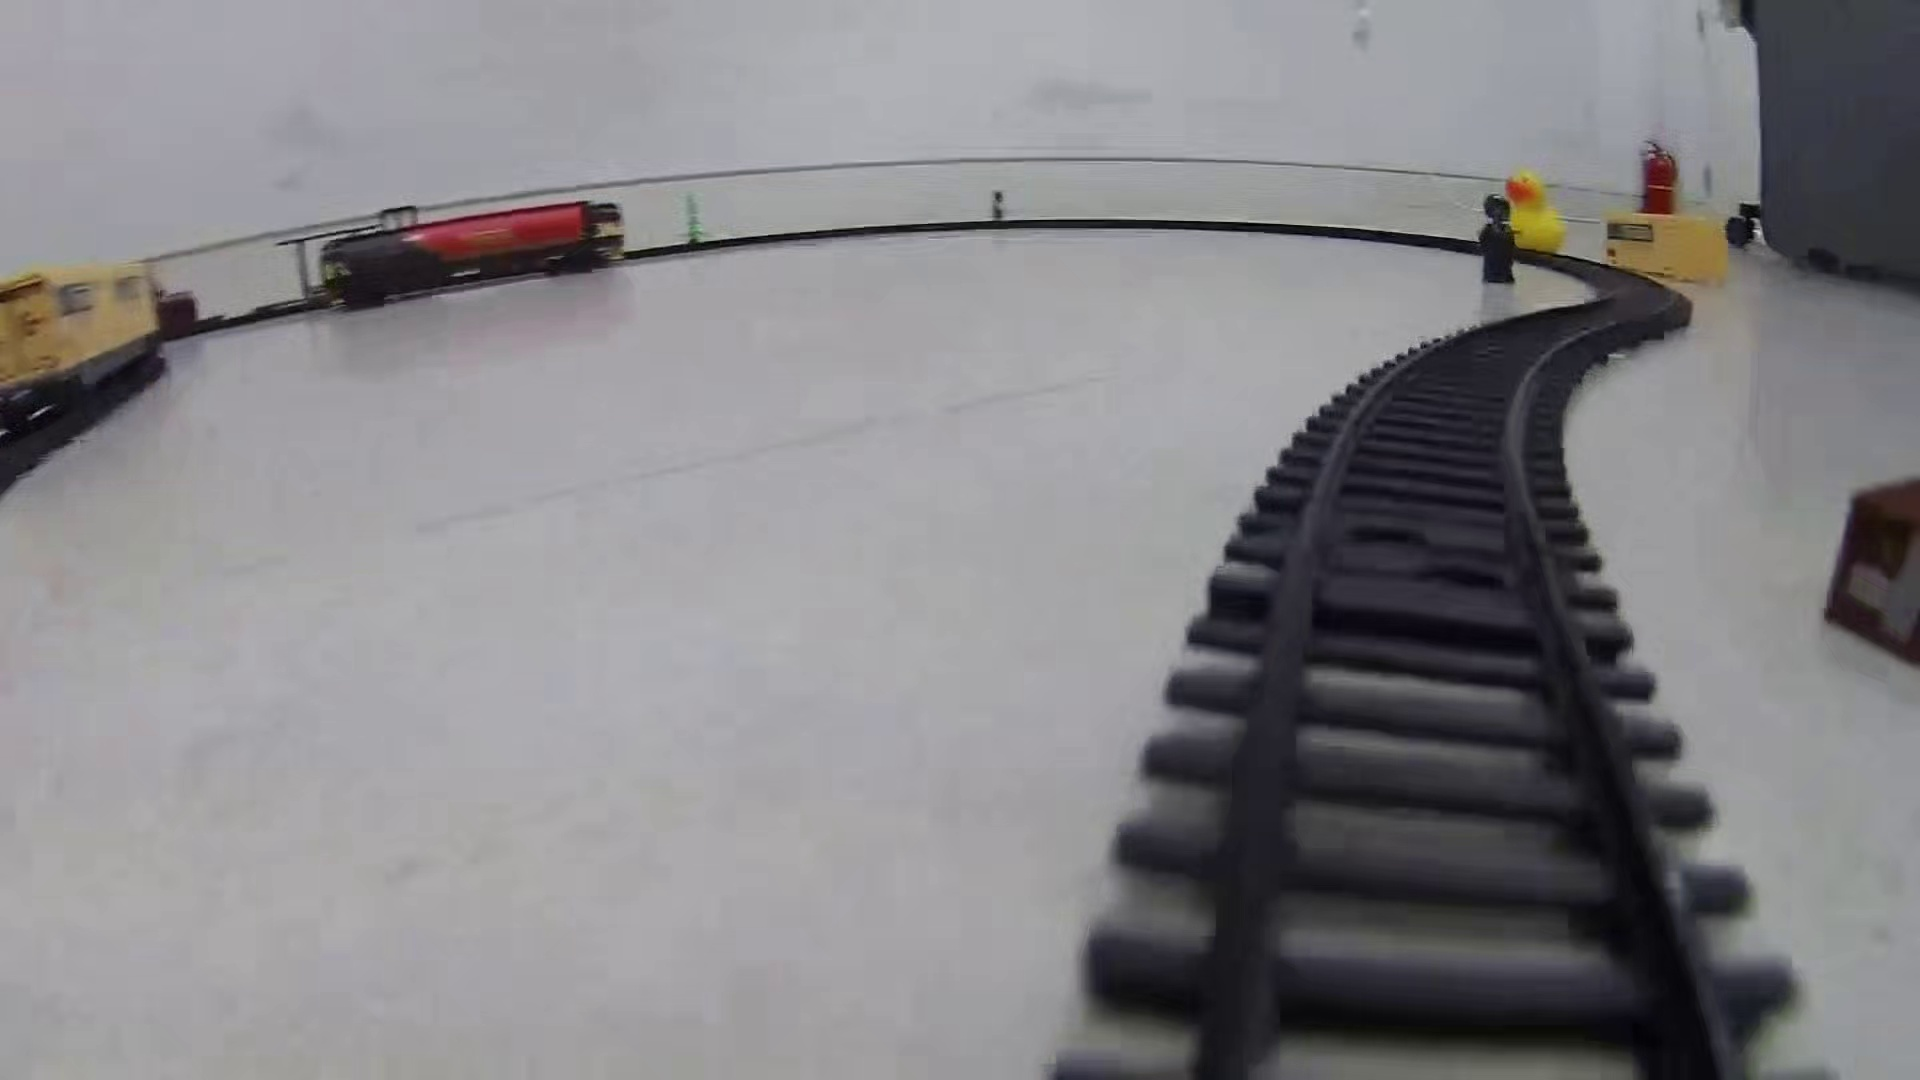people: (1474, 190, 1520, 290), (986, 184, 1009, 228)
tree: (673, 192, 709, 253)
